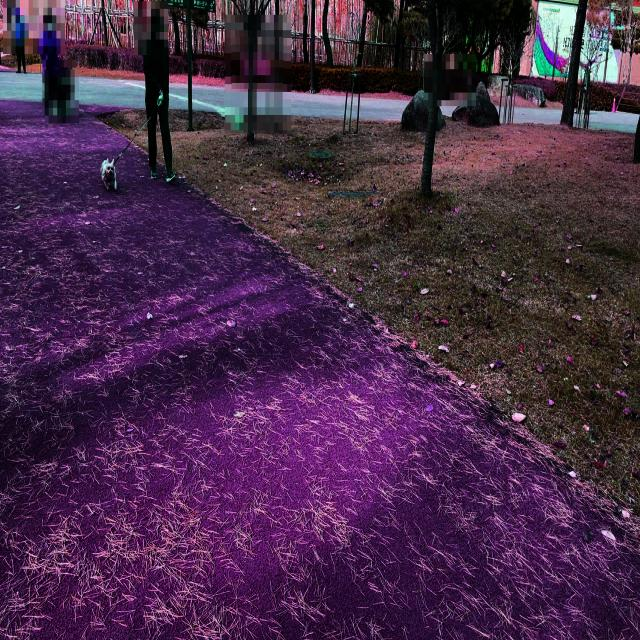Leashed_Dog: (100, 108, 154, 192)
